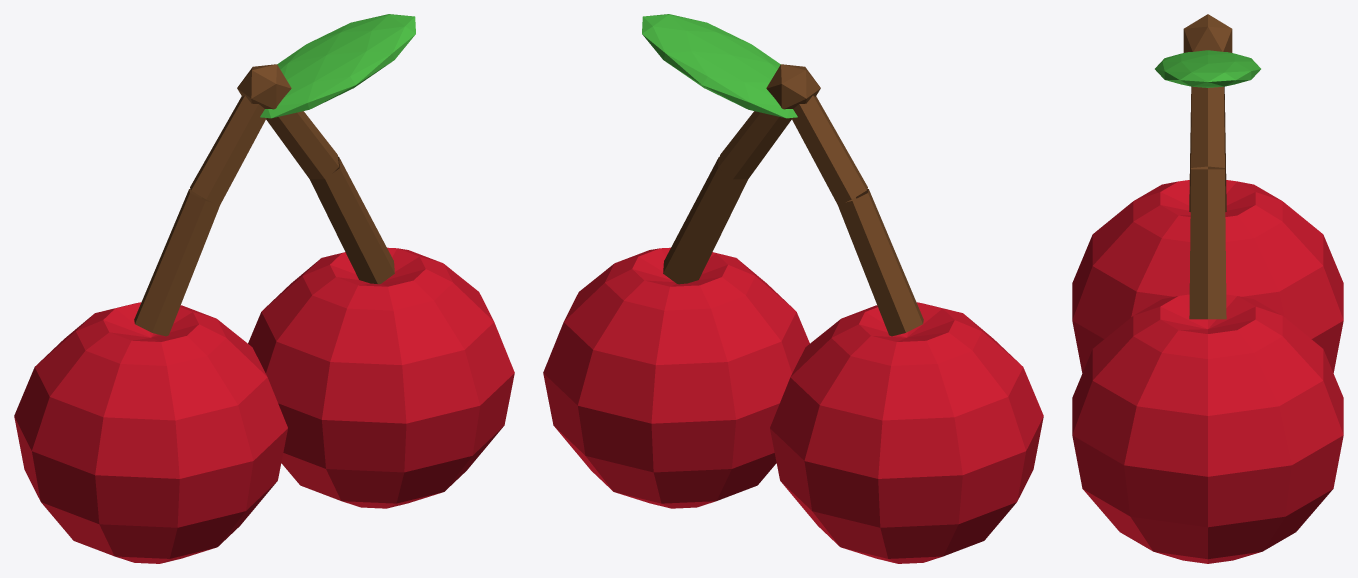
The model's file is CherryFruit.obj.
The picture shows the model from 3 angles, left to right: view 1: azimuth 30°, elevation 25°; view 2: azimuth 150°, elevation 25°; view 3: azimuth 270°, elevation 25°; orthographic projection. The views are drawn at different scales.
Visible parts, largest first — view 1: CherryFruit_CherryBody, CherryFruit_CherryStem, CherryFruit_CherryLeaf; view 2: CherryFruit_CherryBody, CherryFruit_CherryStem, CherryFruit_CherryLeaf; view 3: CherryFruit_CherryBody, CherryFruit_CherryStem, CherryFruit_CherryLeaf.
Boxes of the visible parts, x1,y1,x2,y2 form: CherryFruit_CherryBody: (14,247,514,563); CherryFruit_CherryStem: (134,64,394,336); CherryFruit_CherryLeaf: (260,14,415,118); CherryFruit_CherryBody: (543,247,1043,563); CherryFruit_CherryStem: (663,64,923,336); CherryFruit_CherryLeaf: (642,14,797,118); CherryFruit_CherryBody: (1072,180,1343,563); CherryFruit_CherryStem: (1183,14,1232,319); CherryFruit_CherryLeaf: (1155,50,1260,87).
Size of the model in its own units: 1 by 0.9577 by 0.4877.
